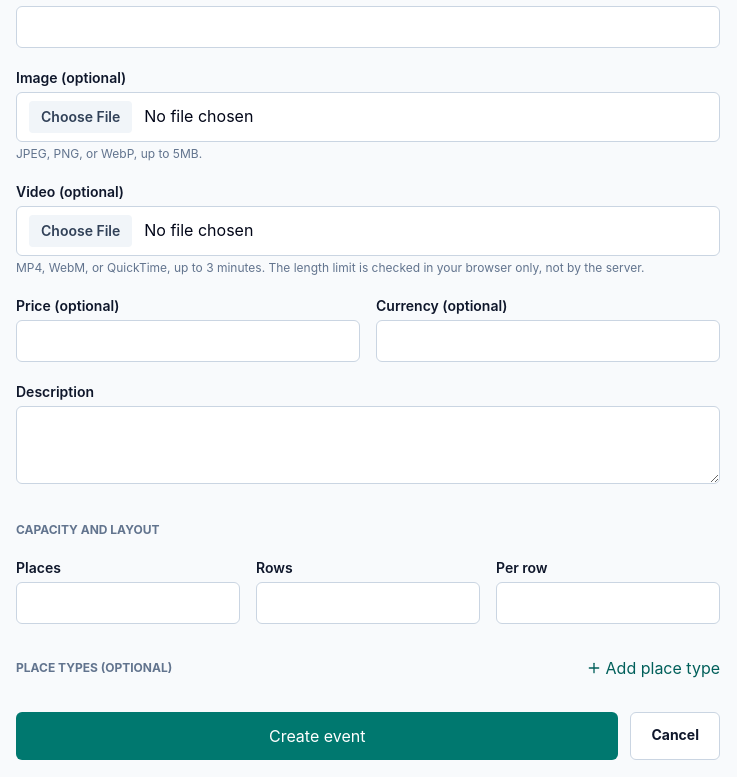
Test: CreateEventPage › blocks submission and shows field errors when required fields are missing
(page scrolled)
What coordinates should you click on to do the following:
click the button "Create event"
I would click on:
 (317, 736)
Its box is x1=16 y1=712 x2=618 y2=760.
(page scrolled)
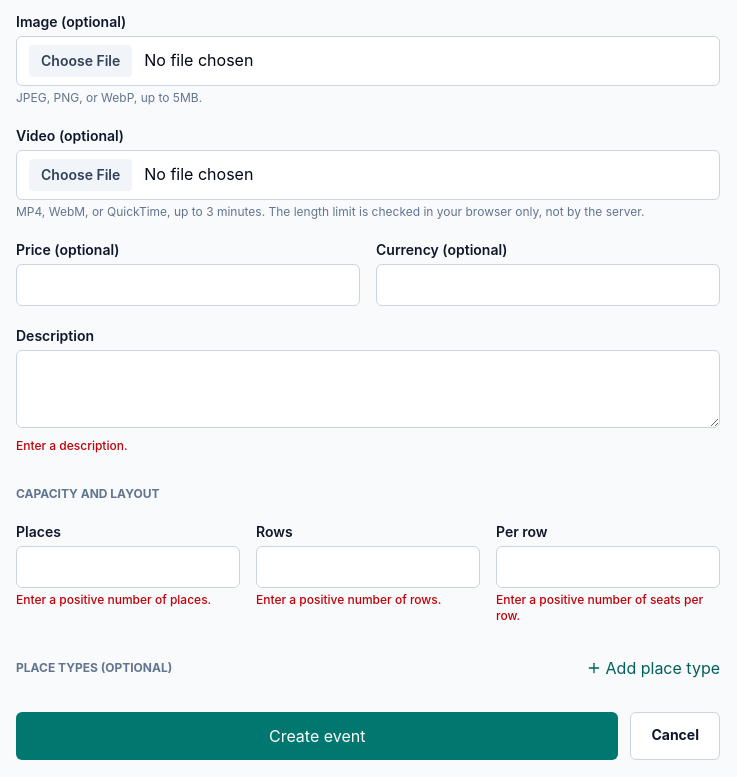
Now the text "Enter a description." is shown, box x1=16 y1=438 x2=128 y2=453
